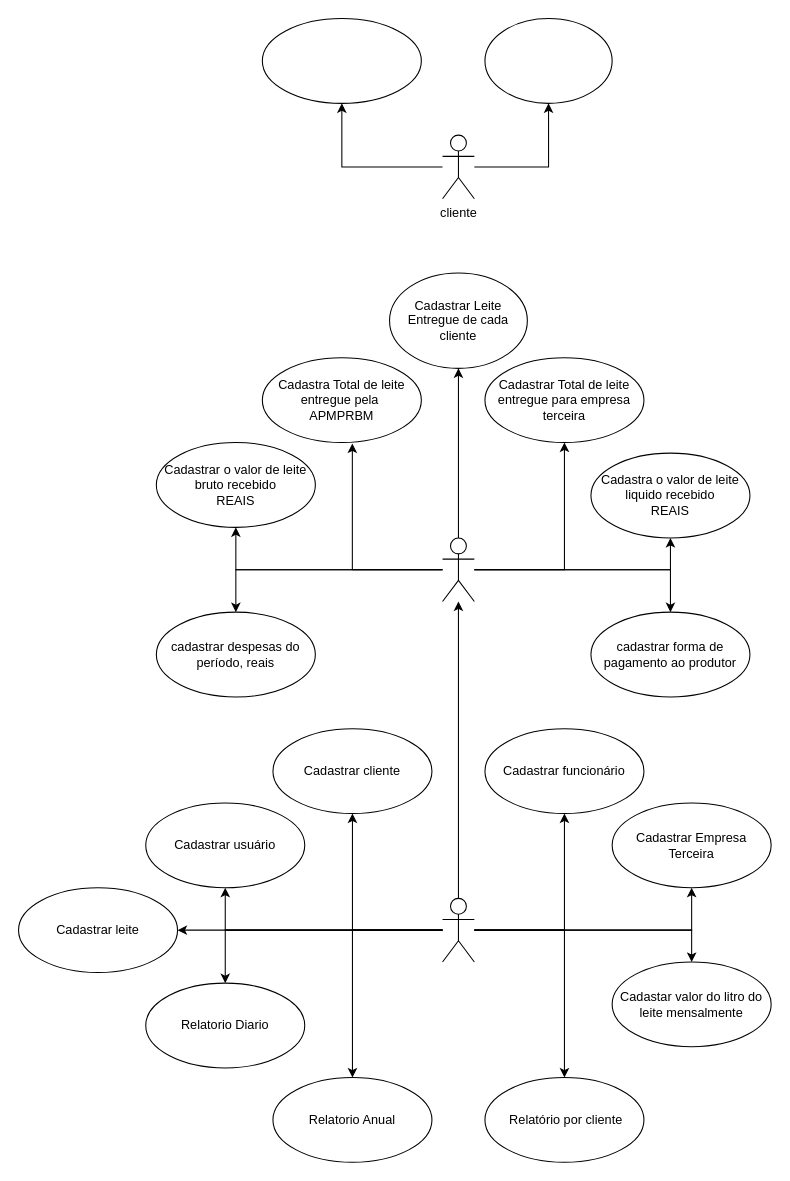
This 790x1181 diagram has some shape labels left out. Each missing label, with the centre of its shape:
administrador: the point at 457,929
Emitir relatorio diario de entrega de leite: the point at 341,60
Emitir relatorio mensal de pagamento: the point at 548,60
funcionario: the point at 457,569
